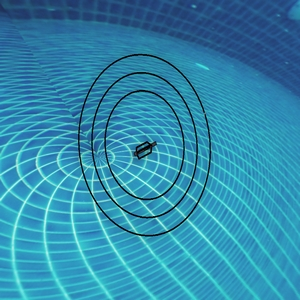circle: (73, 49, 216, 241)
submarine: (132, 137, 155, 158)
